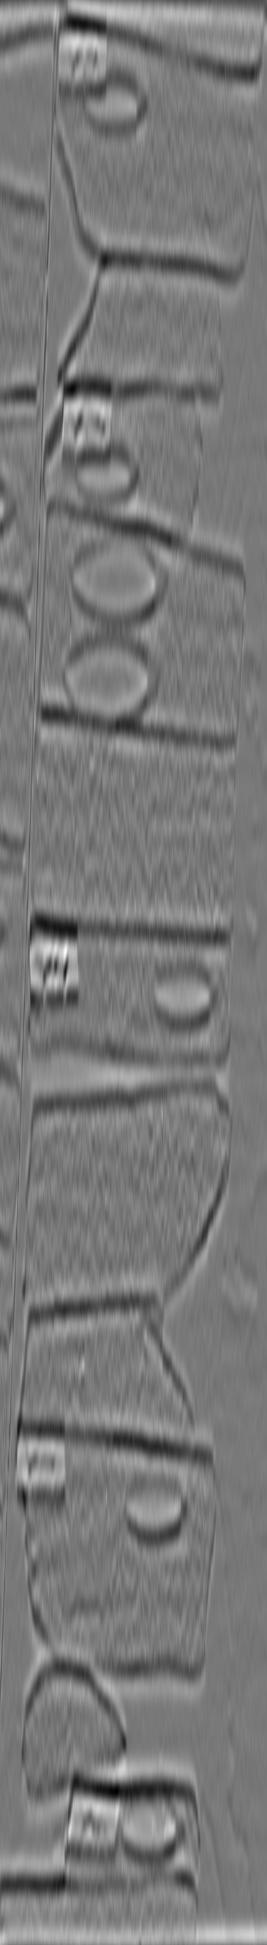hplug: (142, 958, 222, 1035), (68, 439, 150, 515), (78, 63, 158, 139), (120, 1475, 192, 1547), (118, 1795, 190, 1867)
scal: (60, 631, 166, 737), (65, 528, 170, 631)
vplug: (173, 47, 242, 231), (58, 1435, 124, 1622), (40, 920, 120, 1061)
